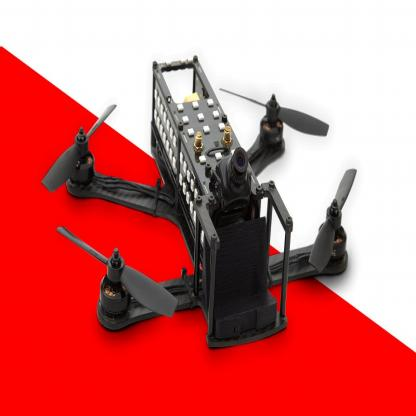drone: (44, 52, 373, 361)
